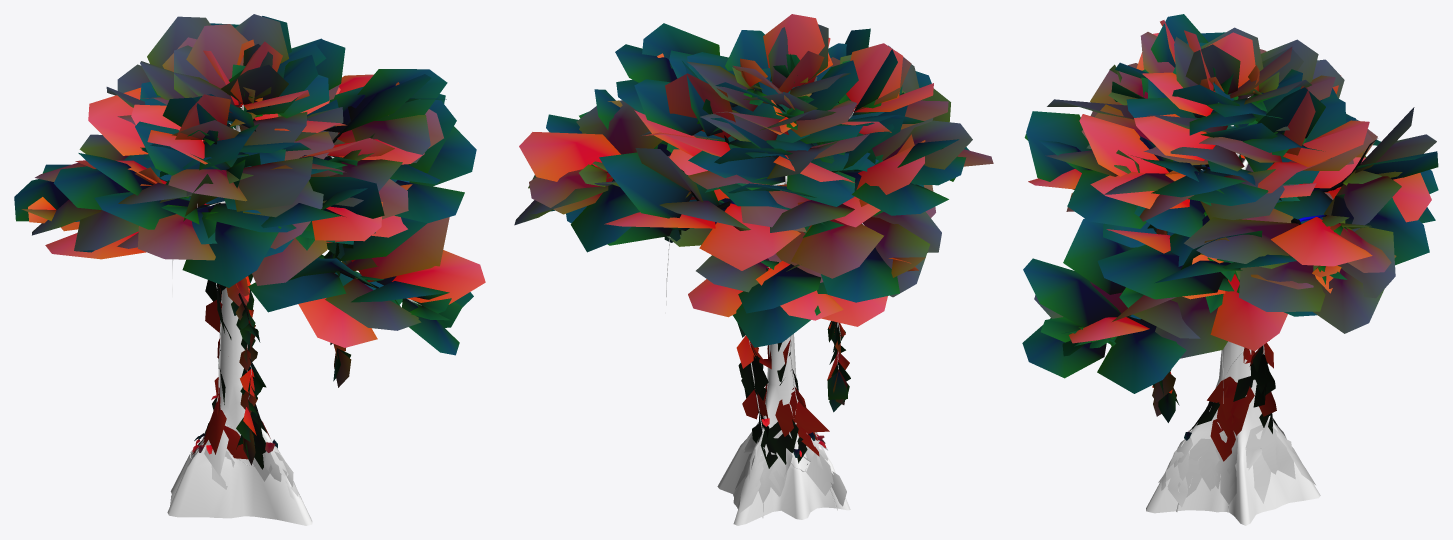
The model's file is KapokTree01_afsTREE_xlprl05_xef40_xmvcb_xlod02.fbx.
3 renders of one model, left to right at view 1: azimuth 30°, elevation 25°; view 2: azimuth 150°, elevation 25°; view 3: azimuth 270°, elevation 25°, orthographic.
Visible parts, largest first — view 1: trunk_xw03, leaf01.032, leaf01.153, leaf01.104, leaf01.095, leaf01.031, leaf01.120_xt20, leaf01.137, leaf01.092_xt20, leaf01.033, leaf01.055, leaf01.036_xw15_xt20 (+56 smaller); view 2: trunk_xw03, leaf01.132, leaf01.015, leaf01.021_xt20, leaf01.069, leaf01.076, leaf01.005_xt20, leaf01.130_xt20, leaf01.004, leaf01.008, leaf01.002, leaf01.026 (+55 smaller); view 3: trunk_xw03, leaf01.113, leaf01.094, leaf01.099, leaf01.130_xt20, leaf01.234, leaf01.243, leaf01.117, leaf01.132, leaf01.108, leaf01.037, leaf01.236 (+72 smaller).
Boxes of the visible parts, box(x1,y1,x2,y2) form: trunk_xw03: box(167, 104, 312, 525); leaf01.032: box(182, 208, 281, 287); leaf01.153: box(235, 156, 312, 211); leaf01.104: box(351, 217, 449, 282); leaf01.095: box(392, 250, 485, 304); leaf01.031: box(138, 214, 215, 260); leaf01.120_xt20: box(348, 69, 447, 120); leaf01.137: box(186, 24, 248, 106); leaf01.092_xt20: box(325, 278, 421, 330); leaf01.033: box(248, 272, 346, 312); leaf01.055: box(88, 87, 148, 155); leaf01.036_xw15_xt20: box(298, 298, 377, 347); trunk_xw03: box(717, 176, 850, 525); leaf01.132: box(519, 132, 620, 181); leaf01.015: box(791, 219, 883, 278); leaf01.021_xt20: box(699, 203, 800, 270); leaf01.069: box(599, 152, 692, 218); leaf01.076: box(570, 179, 639, 252); leaf01.005_xt20: box(821, 247, 899, 302); leaf01.130_xt20: box(576, 100, 662, 154); leaf01.004: box(738, 264, 821, 313); leaf01.008: box(861, 217, 930, 297); leaf01.002: box(732, 304, 820, 347); leaf01.026: box(851, 182, 948, 215); trunk_xw03: box(1146, 125, 1320, 525); leaf01.113: box(1097, 244, 1224, 299); leaf01.094: box(1097, 317, 1186, 393); leaf01.099: box(1023, 258, 1121, 327); leaf01.130_xt20: box(1184, 217, 1298, 268); leaf01.234: box(1239, 255, 1325, 311); leaf01.243: box(1210, 274, 1287, 350); leaf01.117: box(1079, 114, 1168, 176); leaf01.132: box(1271, 217, 1372, 266); leaf01.108: box(1026, 111, 1091, 189); leaf01.037: box(1063, 218, 1136, 294); leaf01.236: box(1313, 265, 1384, 333).
Size of what is drawn, in the model's own units: 51.01 by 45.84 by 56.75.
